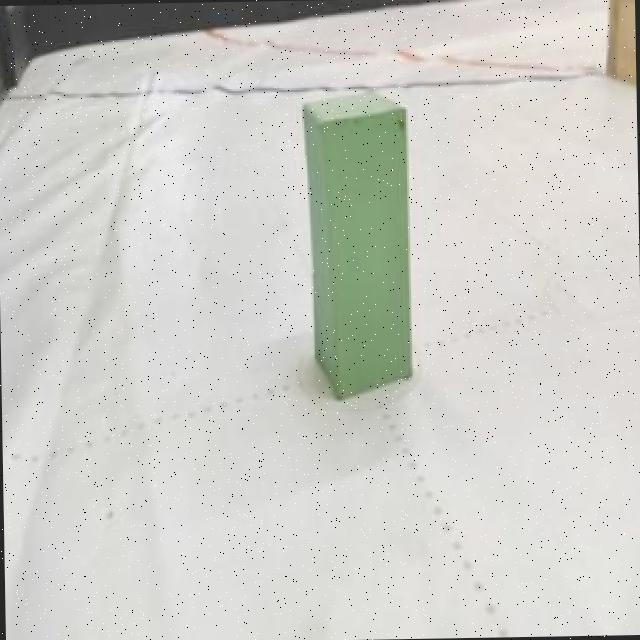greenbox: (295, 90, 414, 406)
